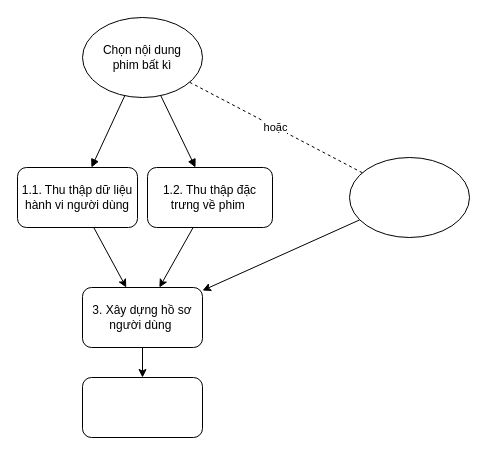
The diagram is 487 pixels wide and 455 high, and some of its shapes have lost their labels. The shapes that lost their labels are listed below. From the top down, each one's centre as x and y in pixels, then its label:
At (409,197): "Cấu hình sở thích từ lúc khởi tạo".
At (142,407): "4. Hiển thị dữ liệu khuyến nghị".
